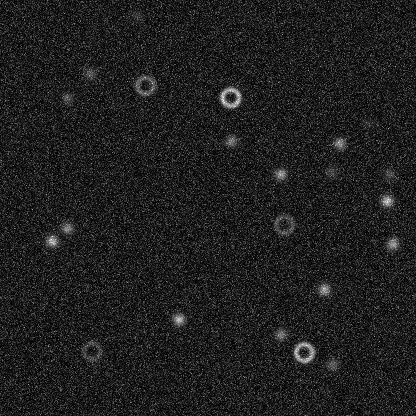Ring: (218, 85, 242, 109), (79, 338, 103, 362), (133, 73, 157, 97), (291, 340, 315, 364), (272, 212, 296, 236)
Spot: (380, 166, 396, 182), (58, 220, 74, 236), (170, 311, 186, 327), (59, 90, 75, 106), (324, 356, 340, 372), (272, 166, 288, 182), (378, 192, 394, 208), (82, 65, 98, 81), (316, 281, 332, 297), (128, 7, 144, 23), (331, 135, 347, 151), (223, 133, 239, 149), (323, 163, 339, 179), (360, 115, 376, 131), (384, 235, 400, 251), (272, 326, 288, 342), (43, 233, 59, 249)
